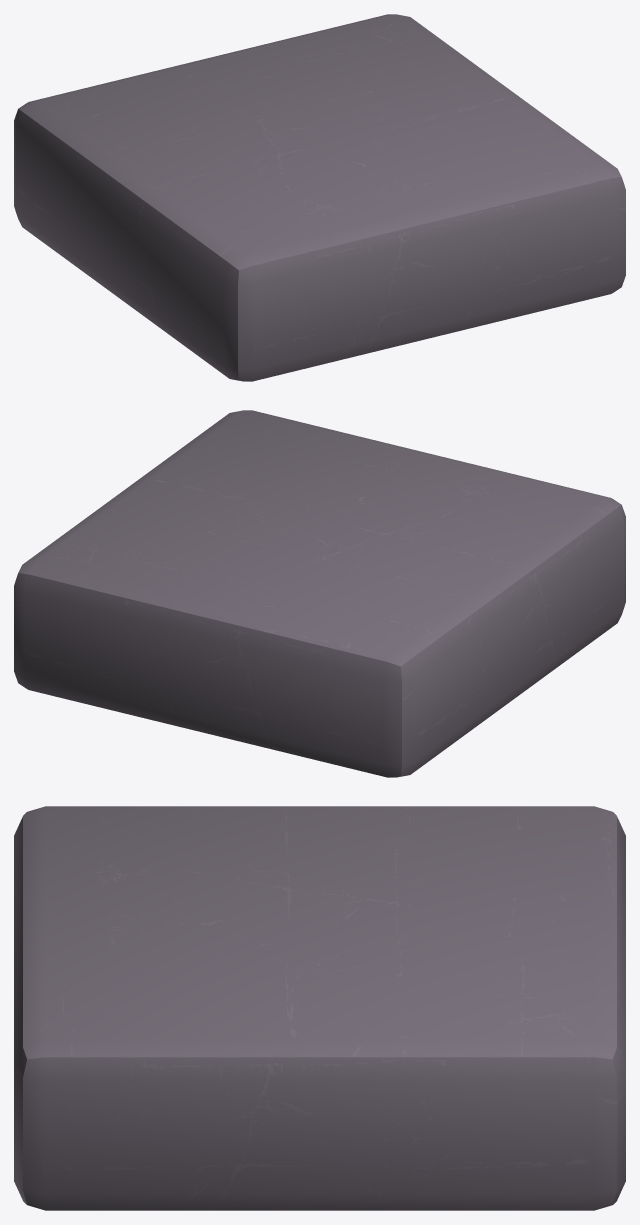
Rendered from vol_ground_ash.glb.
3 renders of one model, top to bottom at view 1: azimuth 30°, elevation 25°; view 2: azimuth 150°, elevation 25°; view 3: azimuth 270°, elevation 25°, orthographic. The views are drawn at different scales.
Visible parts, largest first — view 1: vol_ground_ash; view 2: vol_ground_ash; view 3: vol_ground_ash.
Part boxes in pixels (bbox=[...]): vol_ground_ash: bbox=[14, 14, 625, 381]; vol_ground_ash: bbox=[14, 410, 625, 777]; vol_ground_ash: bbox=[14, 806, 625, 1210].
Bounding box in the file's own units: 0.98 × 0.2999 × 0.98.
Materials: 1 (1 with a texture image).
